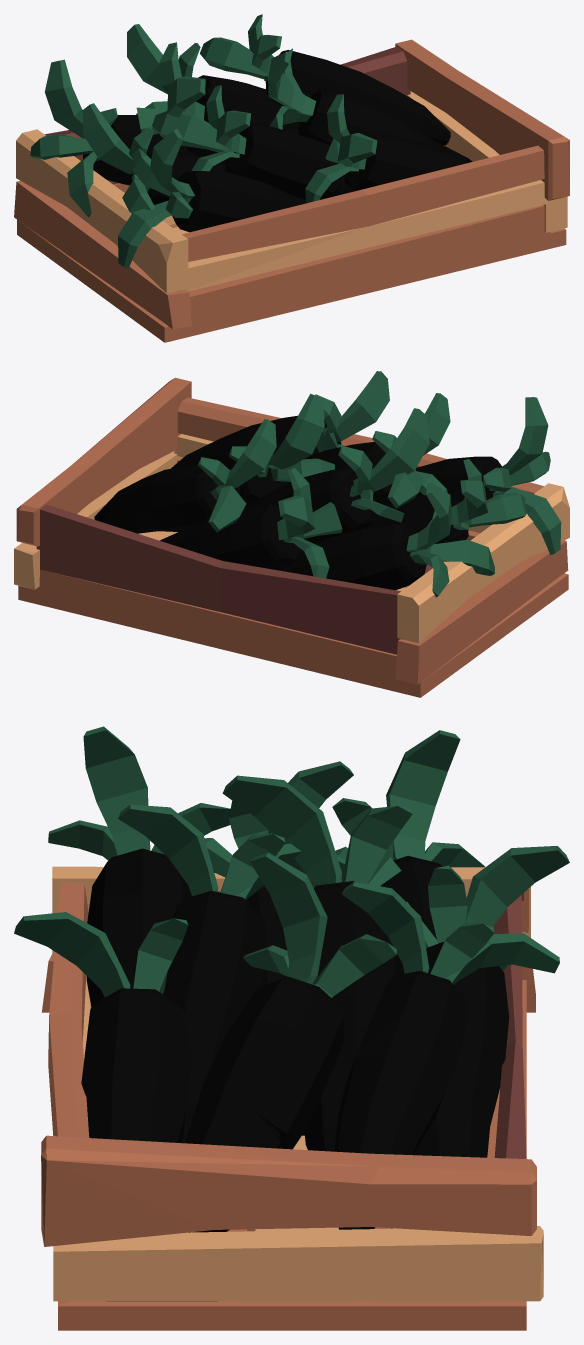
The model's file is Box_Caroots.fbx.
3 renders of one model, top to bottom at view 1: azimuth 30°, elevation 25°; view 2: azimuth 150°, elevation 25°; view 3: azimuth 270°, elevation 25°, orthographic. The views are drawn at different scales.
Visible parts, largest first — view 1: Box_Carrots, Caroot_Box_04, Caroot_Box_01, Caroot_Box_09, Caroot_Box_07, Caroot_Box_03, Caroot_Box_08, Caroot_Box_05, Caroot_Box_02, Caroot_Box_06; view 2: Box_Carrots, Caroot_Box_03, Caroot_Box_09, Caroot_Box_06, Caroot_Box_05, Caroot_Box_01, Caroot_Box_08, Caroot_Box_02, Caroot_Box_07, Caroot_Box_04; view 3: Box_Carrots, Caroot_Box_08, Caroot_Box_09, Caroot_Box_07, Caroot_Box_04, Caroot_Box_05, Caroot_Box_06, Caroot_Box_01, Caroot_Box_03, Caroot_Box_02.
Part boxes in pixels (box(x1,y1,x2,y2)): Box_Carrots: box(14, 39, 569, 342); Caroot_Box_04: box(152, 85, 354, 199); Caroot_Box_01: box(118, 129, 306, 268); Caroot_Box_09: box(200, 14, 450, 145); Caroot_Box_07: box(305, 94, 470, 202); Caroot_Box_03: box(30, 59, 193, 217); Caroot_Box_08: box(268, 48, 472, 161); Caroot_Box_05: box(136, 42, 299, 164); Caroot_Box_02: box(82, 103, 226, 213); Caroot_Box_06: box(127, 24, 299, 123); Box_Carrots: box(14, 377, 569, 697); Caroot_Box_03: box(279, 482, 494, 597); Caroot_Box_09: box(94, 419, 276, 533); Caroot_Box_06: box(160, 467, 342, 578); Caroot_Box_05: box(248, 408, 429, 543); Caroot_Box_01: box(415, 397, 561, 555); Caroot_Box_08: box(188, 393, 334, 507); Caroot_Box_02: box(365, 459, 526, 543); Caroot_Box_07: box(171, 371, 389, 468); Caroot_Box_04: box(289, 393, 450, 508); Box_Carrots: box(41, 866, 543, 1330); Caroot_Box_08: box(184, 852, 396, 1232); Caroot_Box_09: box(334, 882, 559, 1229); Caroot_Box_07: box(14, 912, 190, 1143); Caroot_Box_04: box(118, 804, 345, 1143); Caroot_Box_05: box(222, 775, 412, 1151); Caroot_Box_06: box(406, 846, 569, 1157); Caroot_Box_01: box(48, 726, 230, 1007); Caroot_Box_03: box(332, 730, 484, 973); Caroot_Box_02: box(204, 761, 353, 1135).
Size of the model in its own units: 93.48 by 42.52 by 67.87.
